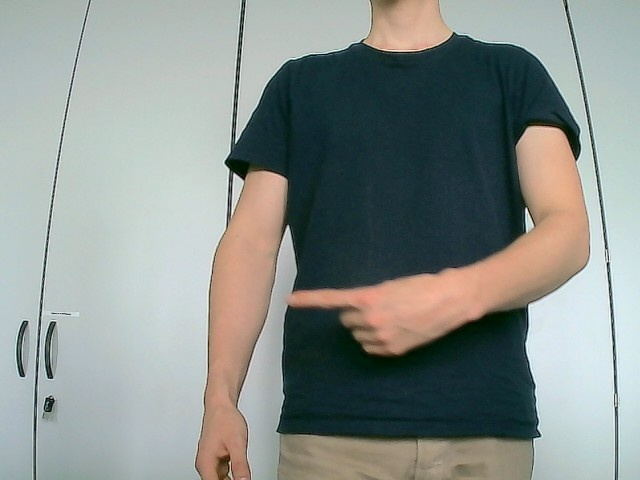right: (284, 268, 476, 359)
